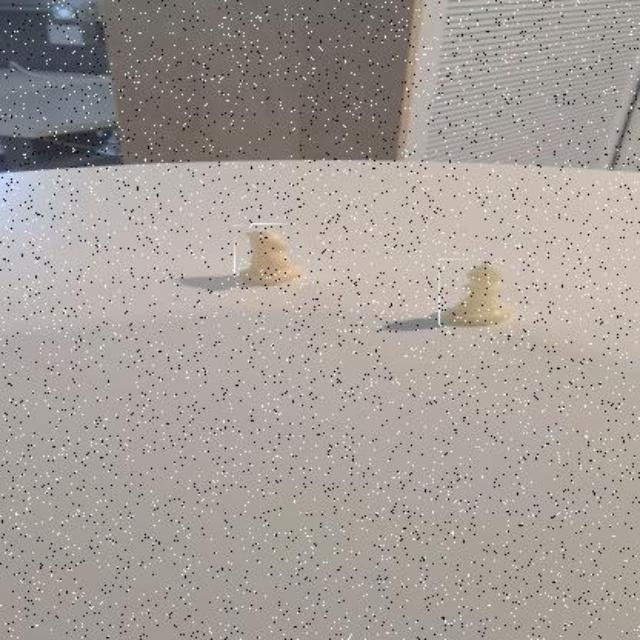white-bishop: (438, 257, 513, 326)
white-knight: (234, 224, 309, 285)
